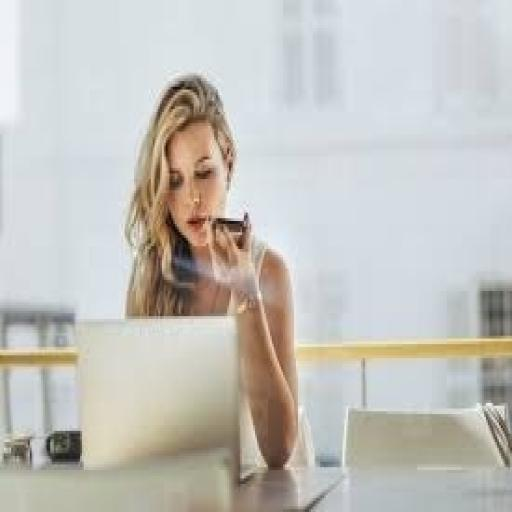calling: (121, 70, 313, 473)
